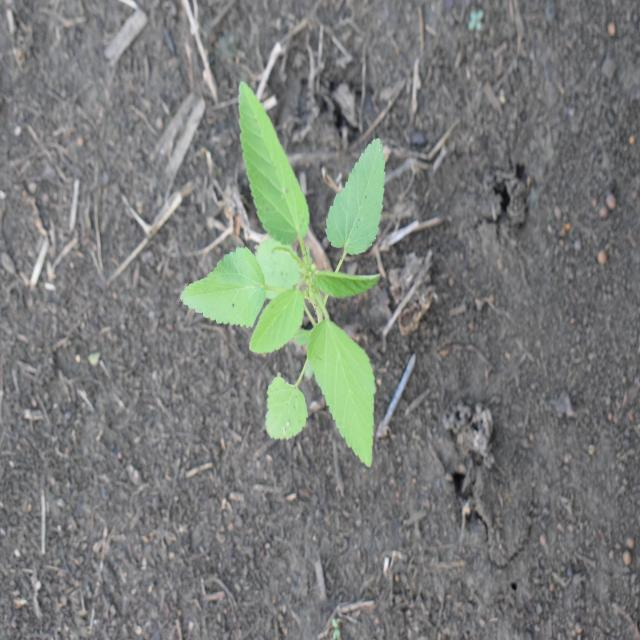PricklySida: (179, 78, 388, 468)
